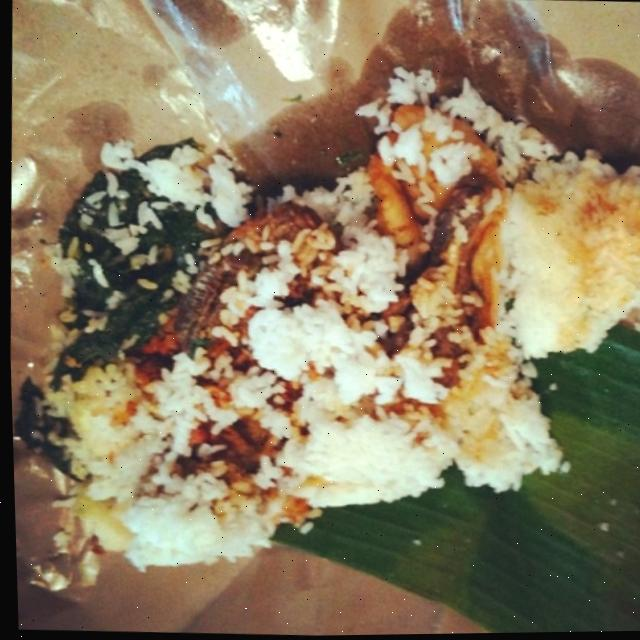米饭主食: (8, 0, 640, 631)
